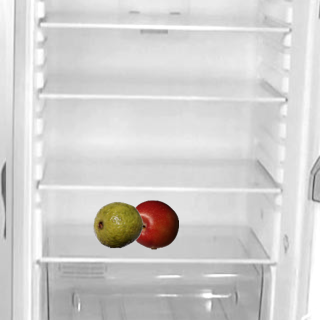Apple Braeburn: (128, 199, 178, 249)
Guava: (92, 199, 142, 249)
